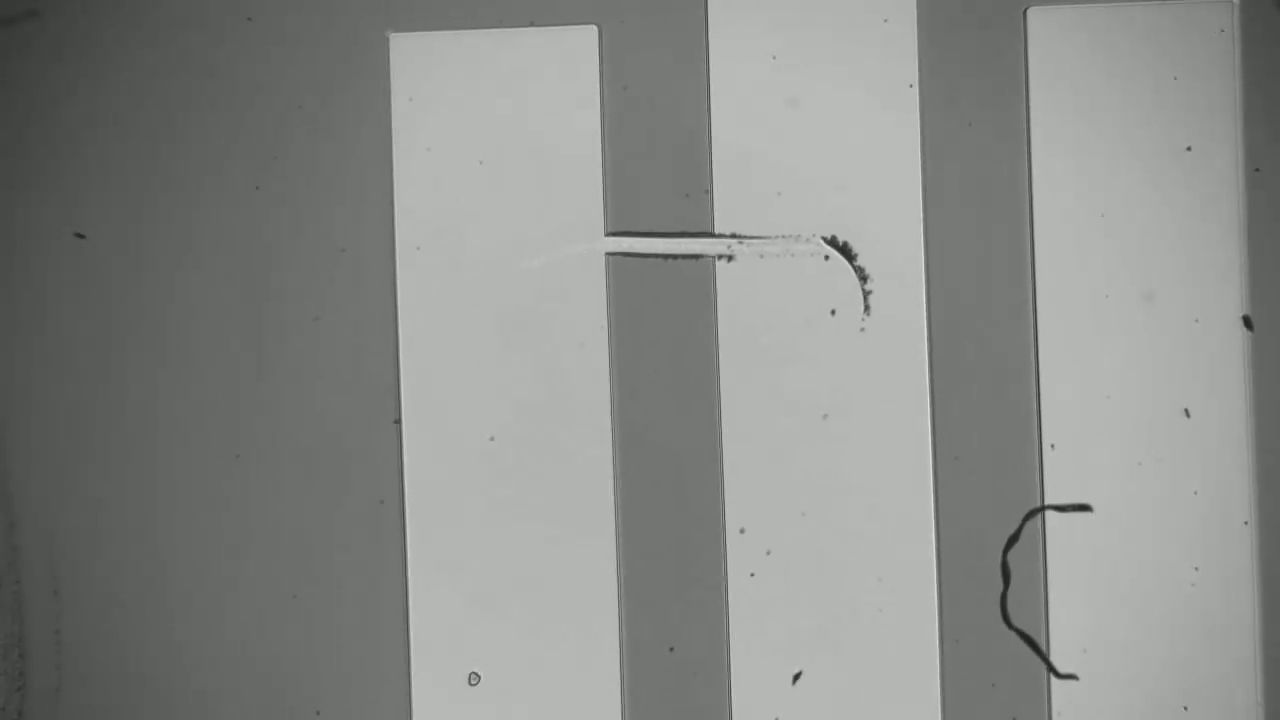Short_circuit: (575, 192, 762, 298)
